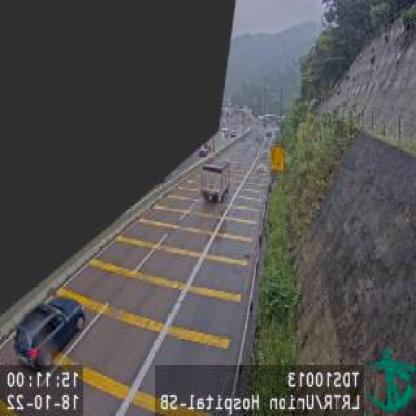Car: (12, 297, 86, 369)
Truck: (200, 156, 231, 206)
